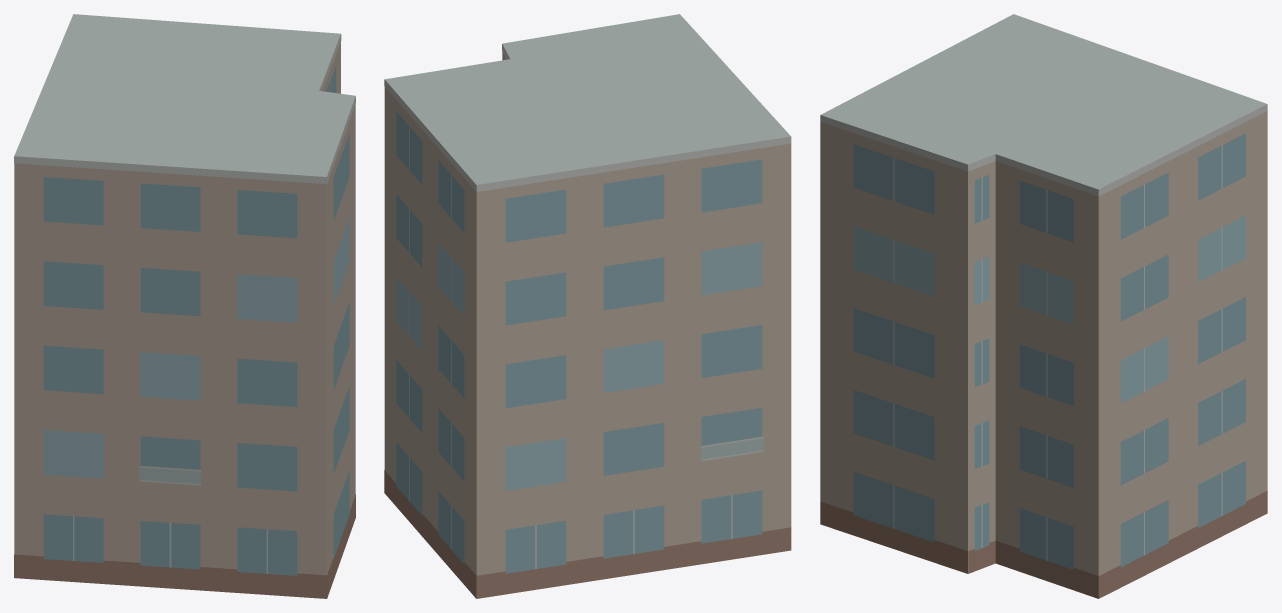
The model's file is survey-upis-32964475.glb.
3 views of the same model, side by side, from view 1: azimuth 30°, elevation 25°; view 2: azimuth 150°, elevation 25°; view 3: azimuth 270°, elevation 25° (orthographic). The views are drawn at different scales.
Visible parts, largest first — view 1: survey-upis-32964475.tmp; view 2: survey-upis-32964475.tmp; view 3: survey-upis-32964475.tmp.
Boxes of the visible parts, <box> form: survey-upis-32964475.tmp: <box>14,14,355,598</box>; survey-upis-32964475.tmp: <box>384,14,791,598</box>; survey-upis-32964475.tmp: <box>820,14,1267,598</box>.
Size of the model in its own units: 13.35 by 14.5 by 14.37.
